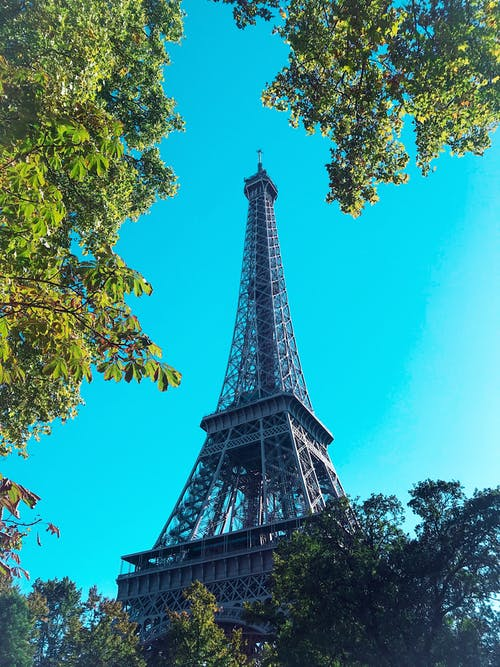eiffel tower: (164, 150, 384, 615)
